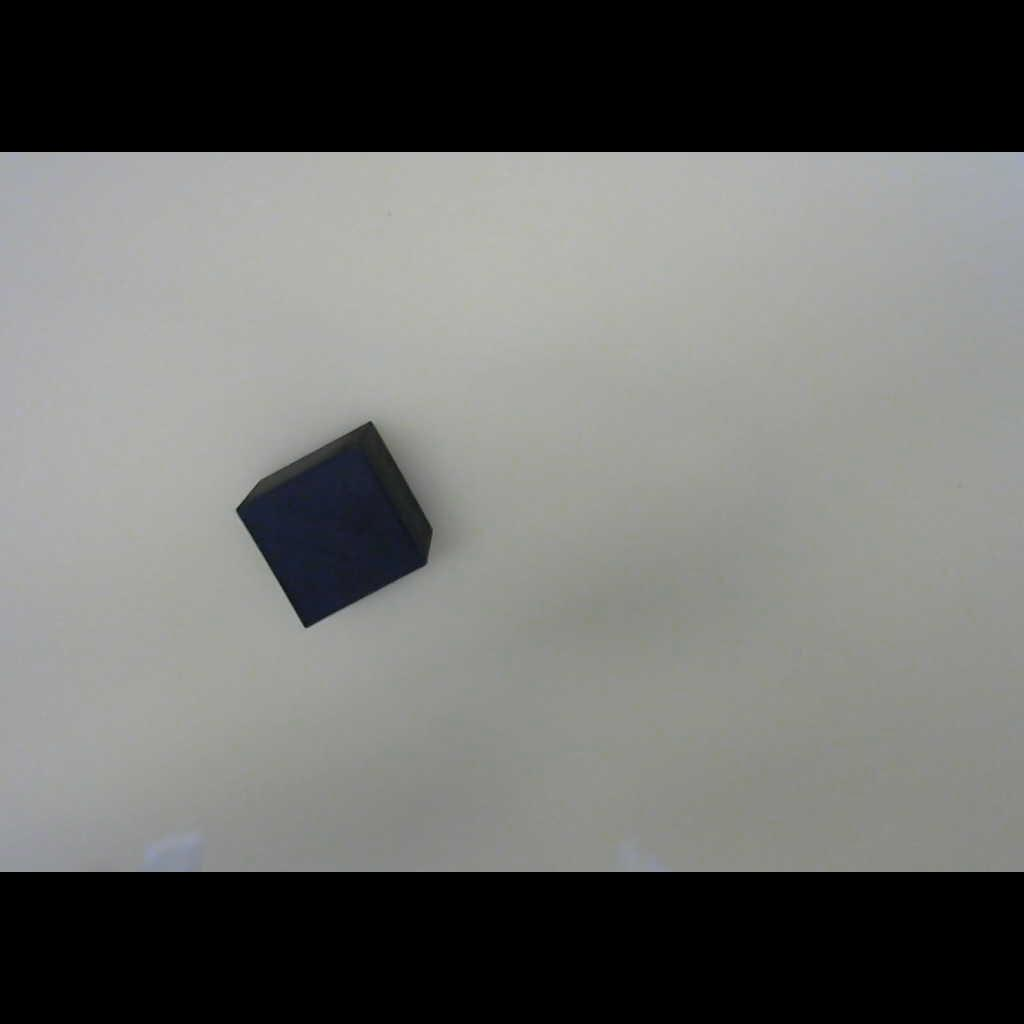square: (197, 391, 473, 660)
